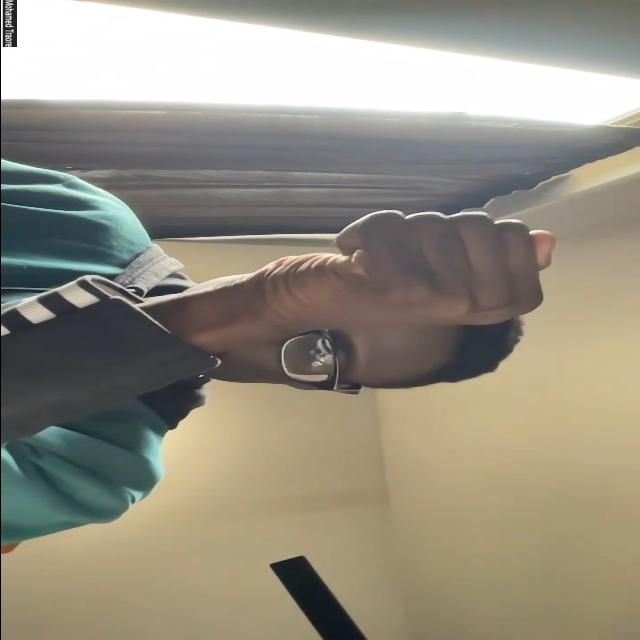Rock: (272, 211, 558, 331)
